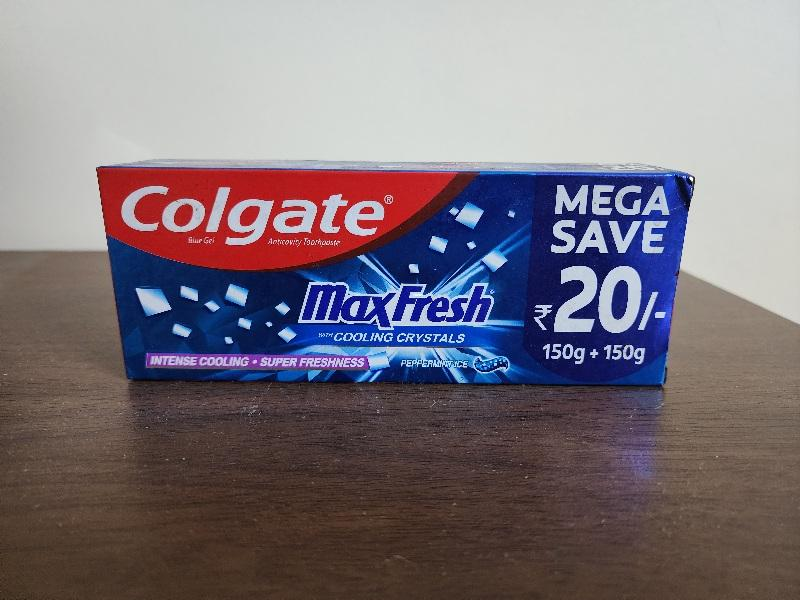Colgate: (104, 160, 698, 383)
